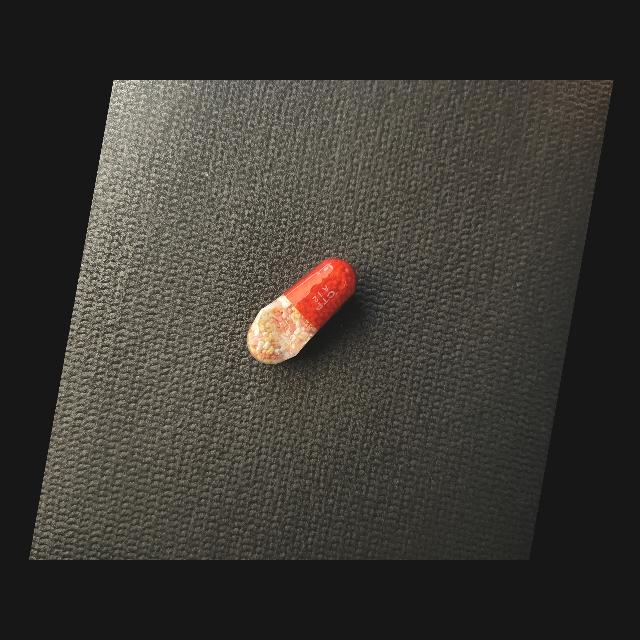Defective Capsule: (247, 258, 358, 364)
